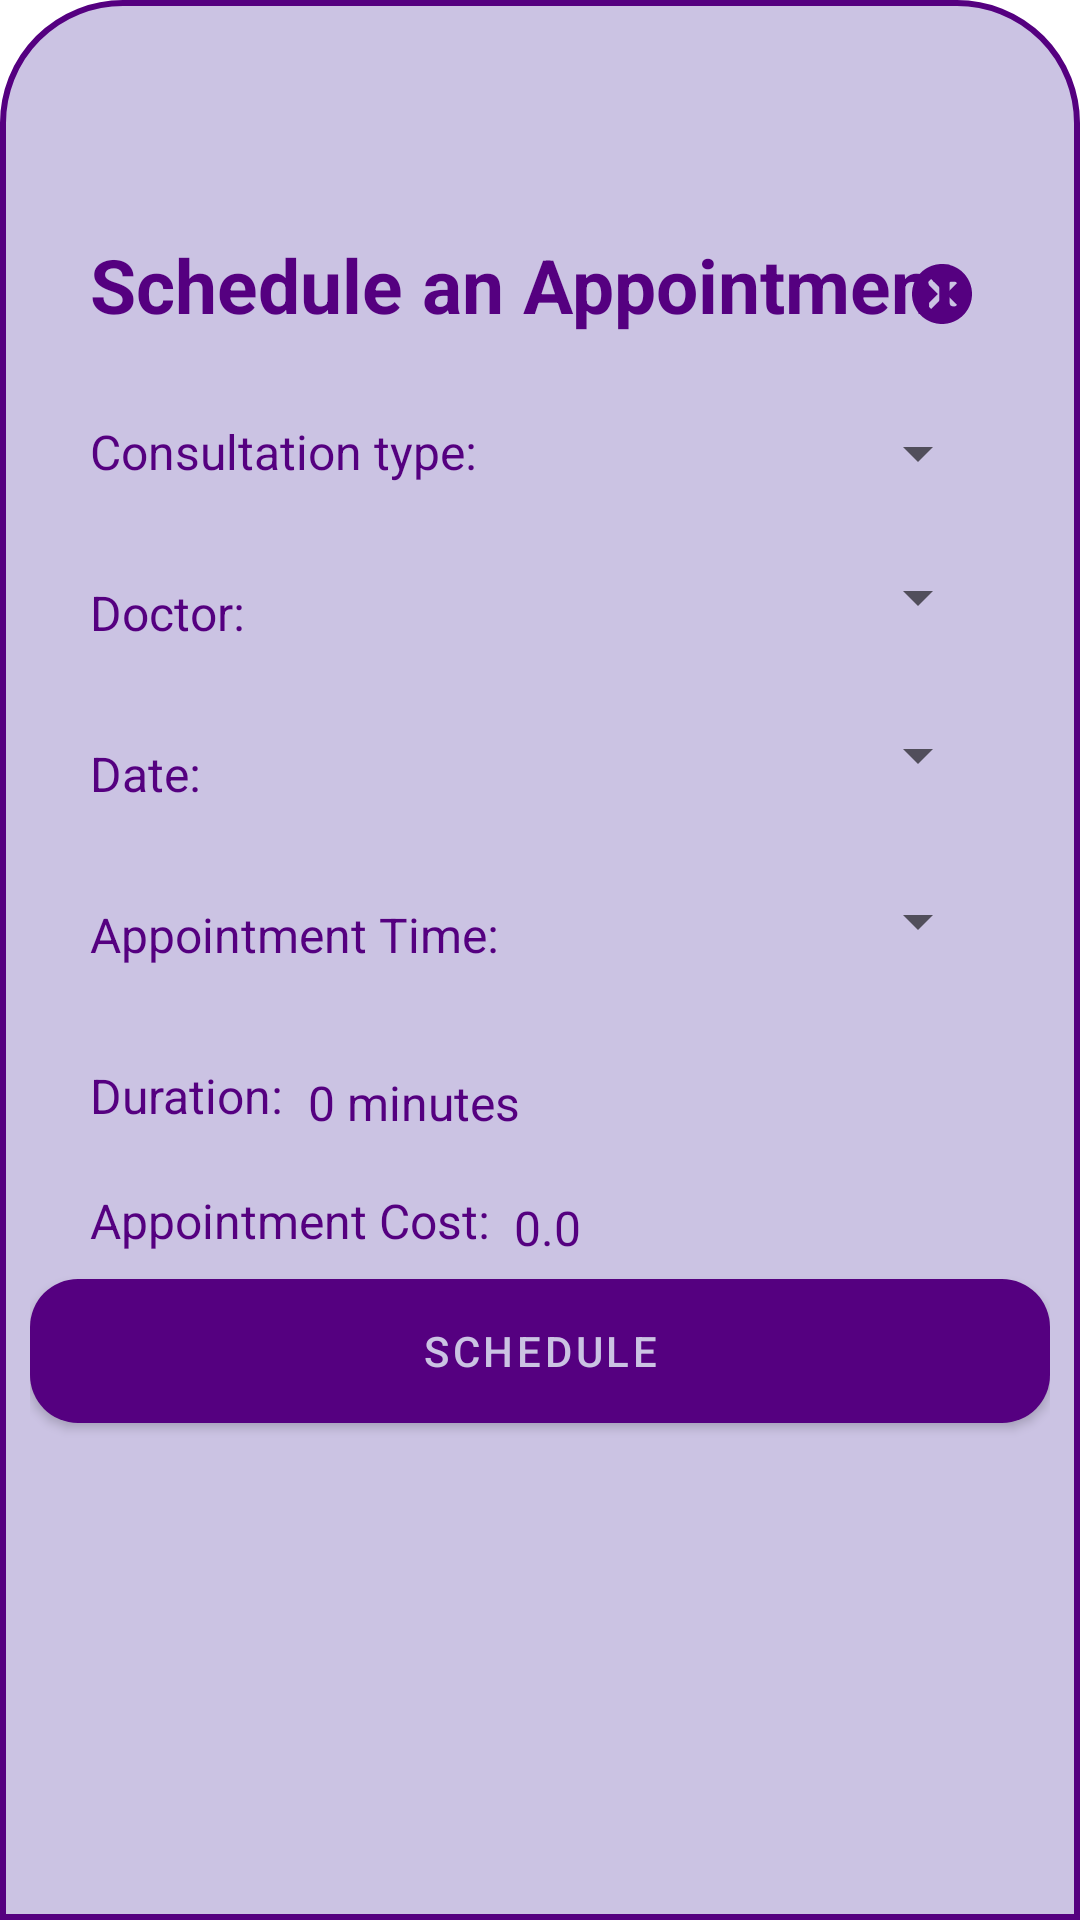

Icons on this 1080 x 1920 Android screen, each with the point to tap as (x,y):
close: (939,294)
